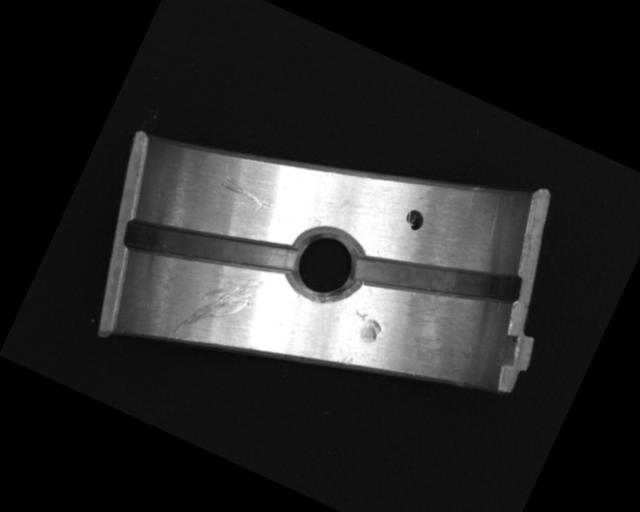blot: (401, 206, 428, 234)
bruise: (345, 309, 384, 347), (335, 350, 355, 368)
gap: (119, 183, 300, 314), (352, 212, 525, 343)
hole: (279, 215, 371, 311)
nick: (174, 254, 267, 359), (217, 176, 276, 214)
